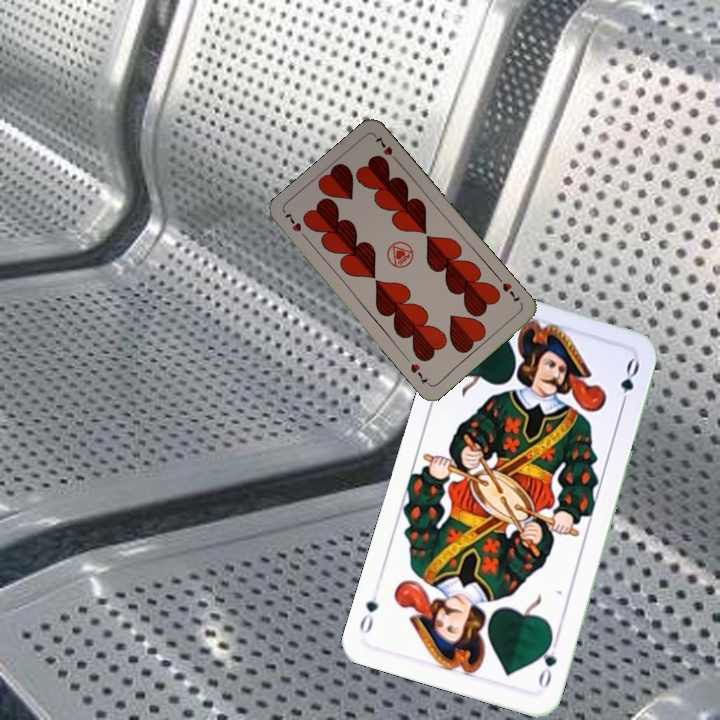GO: (534, 633, 560, 691)
H7: (281, 208, 310, 243), (498, 279, 522, 306)
